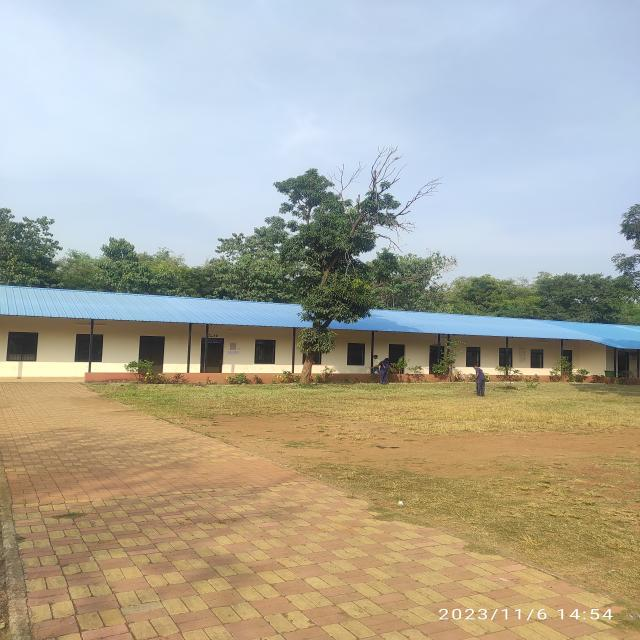Mango Tree: (280, 165, 400, 356)
